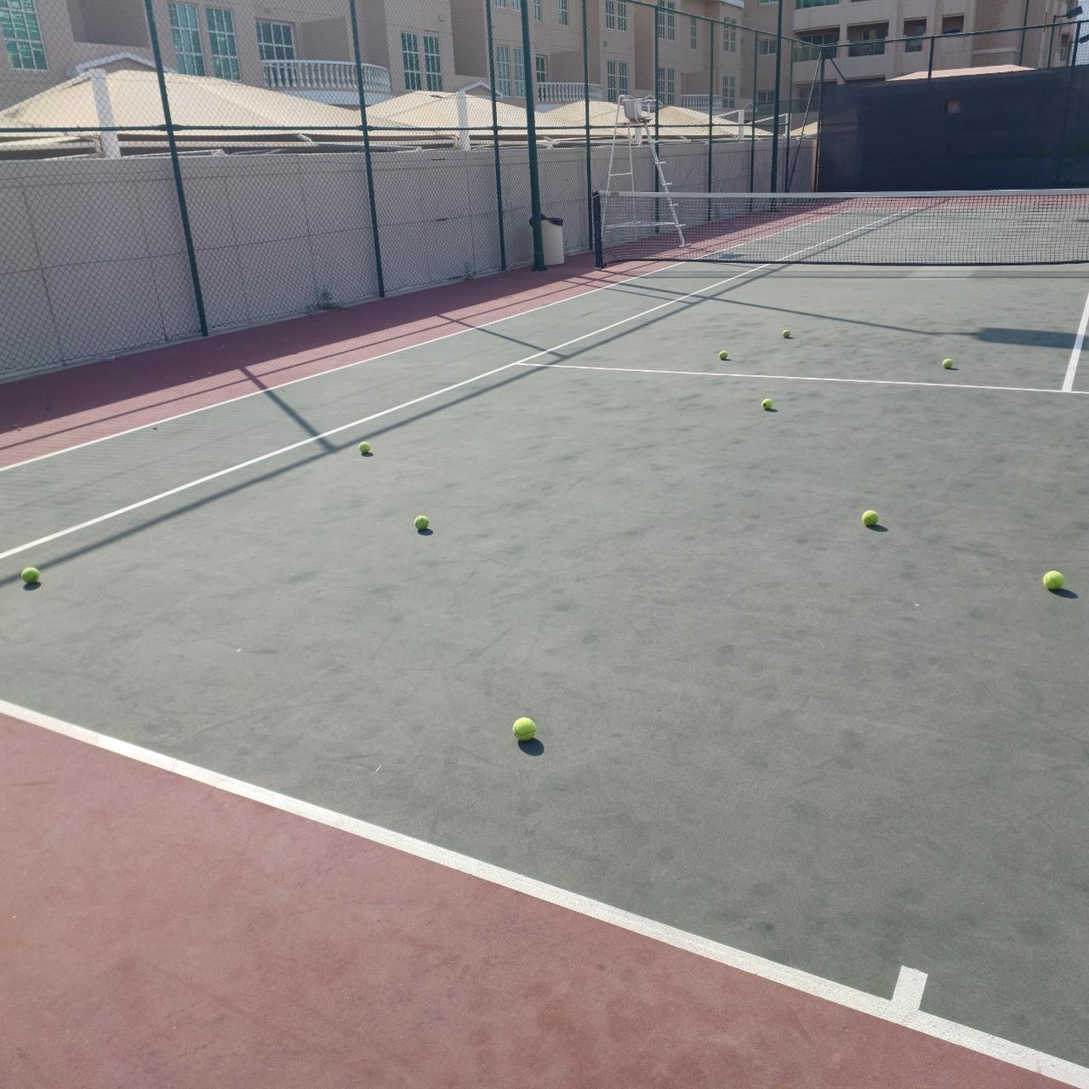tennis-ball: (512, 716, 538, 742), (1041, 567, 1064, 590), (20, 564, 40, 584), (861, 508, 879, 528), (413, 513, 430, 530), (357, 441, 371, 456), (717, 350, 729, 361), (762, 398, 773, 410), (942, 358, 954, 369), (782, 329, 792, 338)
